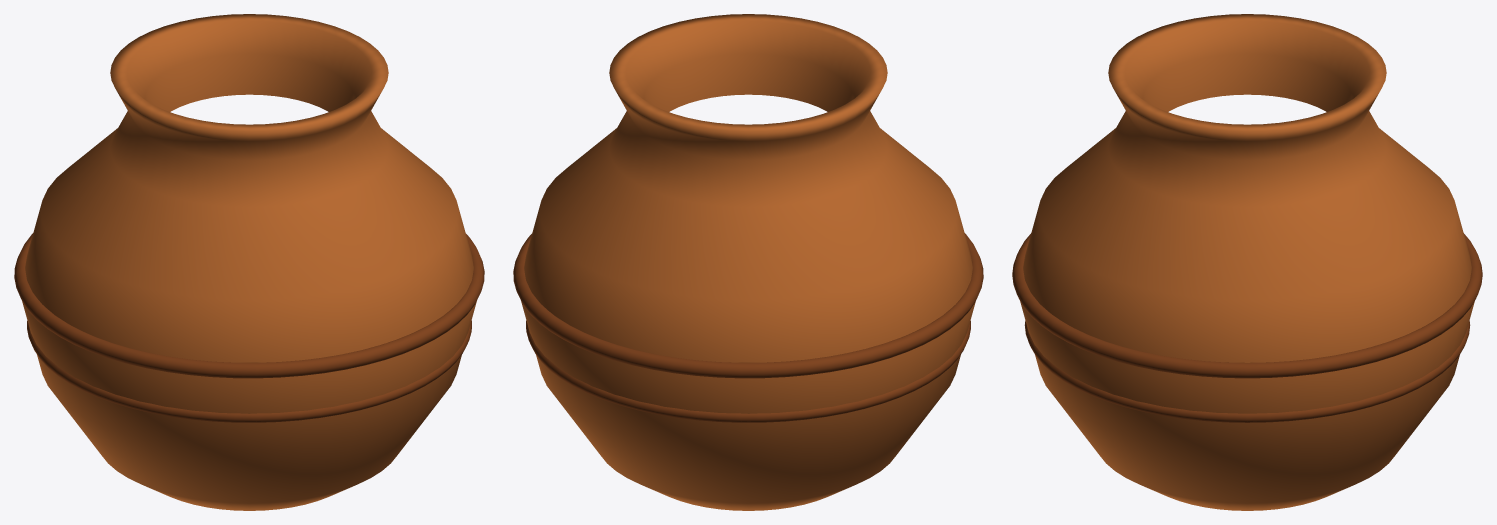
File: pot.glb
The picture shows the model from 3 angles, left to right: view 1: azimuth 30°, elevation 25°; view 2: azimuth 150°, elevation 25°; view 3: azimuth 270°, elevation 25°; orthographic projection.
Visible parts, largest first — view 1: pot; view 2: pot; view 3: pot.
Boxes of the visible parts, left/top/right/bottom form: pot: left=14, top=14, right=484, bottom=510; pot: left=513, top=14, right=983, bottom=510; pot: left=1012, top=14, right=1482, bottom=510.
Size of the model in its own units: 0.338 by 0.31 by 0.338.
